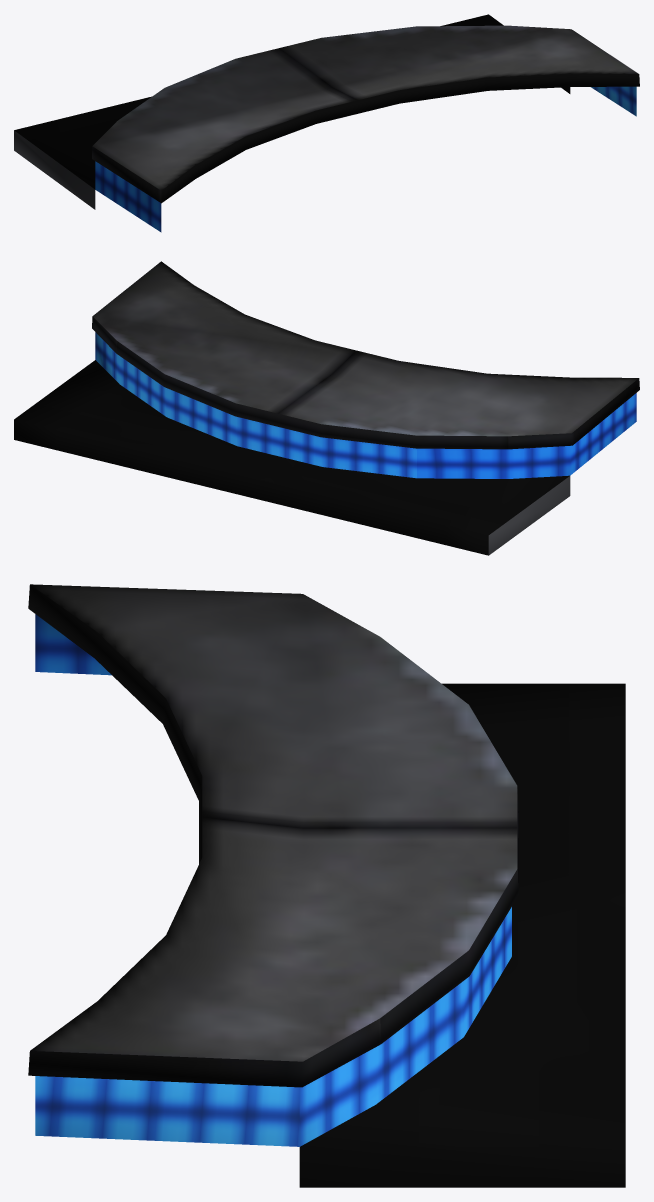
File: FUS0110003.fbx
The picture shows the model from 3 angles, top to bottom: view 1: azimuth 30°, elevation 25°; view 2: azimuth 150°, elevation 25°; view 3: azimuth 270°, elevation 25°; orthographic projection. The views are drawn at different scales.
Parts seen in each view (by area): view 1: smFUS0110003; view 2: smFUS0110003; view 3: smFUS0110003.
Part boxes in pixels (bbox=[...]): smFUS0110003: bbox=[14, 14, 639, 232]; smFUS0110003: bbox=[14, 261, 639, 555]; smFUS0110003: bbox=[28, 584, 625, 1187].
Size of the model in its own units: 321 by 44.39 by 173.
Materials: 2 (2 with a texture image).
